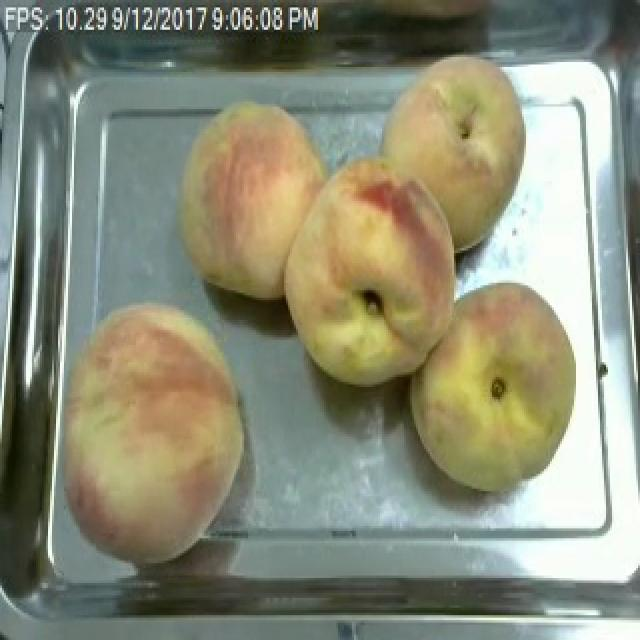Fruit: (38, 290, 258, 573), (272, 149, 472, 397), (400, 273, 588, 498), (168, 92, 342, 305), (374, 44, 538, 260)
